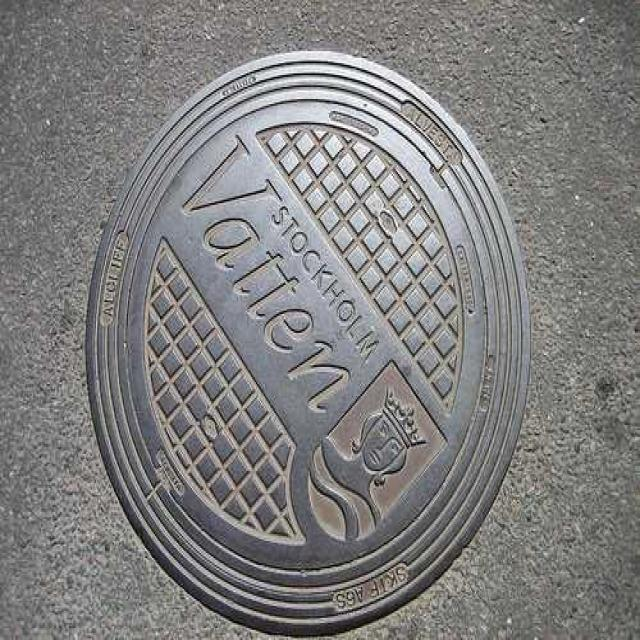manhole: (86, 52, 530, 632)
